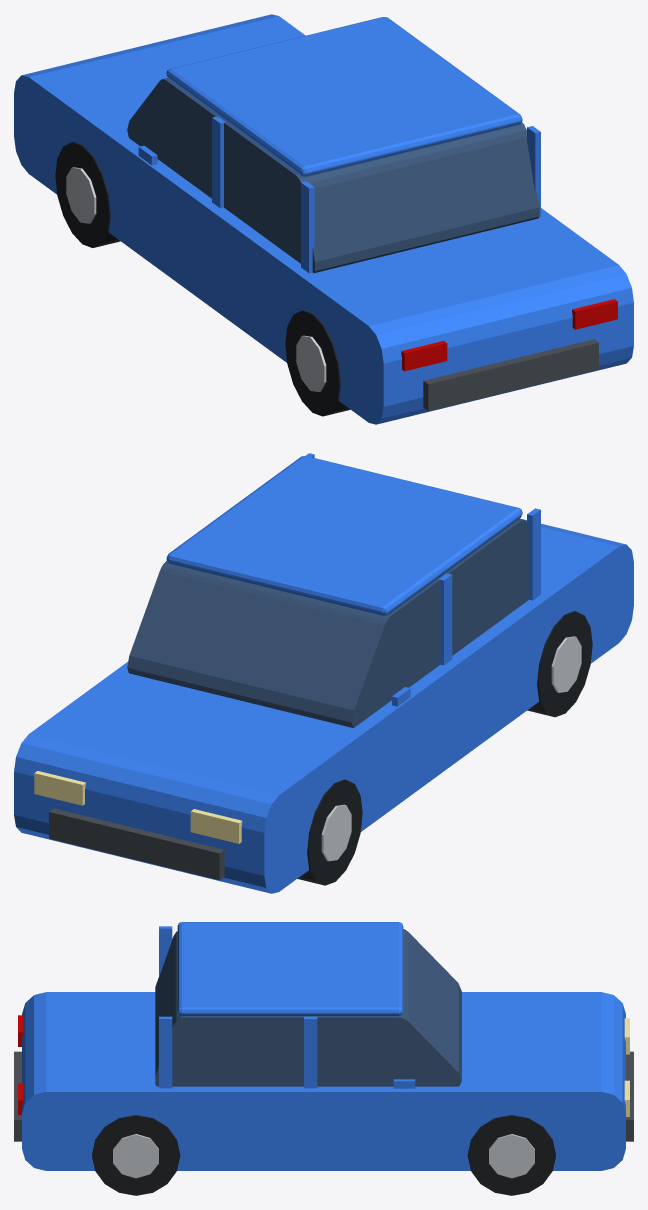
The model's file is st_car_blue.glb.
3 renders of one model, top to bottom at view 1: azimuth 30°, elevation 25°; view 2: azimuth 150°, elevation 25°; view 3: azimuth 270°, elevation 25°, orthographic. The views are drawn at different scales.
Parts seen in each view (by area): view 1: prism, prism.001, Cube, Cube.012, Cylinder, Cylinder.002, Cylinder.003, Cylinder.001, Cube.002, Cube.001, Cube.006, Cube.009 (+1 smaller); view 2: prism, prism.001, Cube, Cube.011, Cylinder, Cylinder.002, Cylinder.001, Cylinder.003, Cube.005, Cube.008, Cube.001, Cube.002; view 3: prism, prism.001, Cube, Cylinder.004, Cylinder.006, Cylinder.005, Cylinder.007, Cube.003, Cube.004, Cube.012, Cube.011, Cube.002.
Boxes of the visible parts, x1=… form: prism: x1=14, y1=14, x2=633, y2=424; prism.001: x1=127, y1=78, x2=539, y2=272; Cube: x1=166, y1=17, x2=522, y2=176; Cube.012: x1=423, y1=339, x2=598, y2=410; Cylinder: x1=285, y1=310, x2=350, y2=416; Cylinder.002: x1=55, y1=142, x2=120, y2=247; Cylinder.003: x1=66, y1=167, x2=96, y2=223; Cylinder.001: x1=296, y1=335, x2=326, y2=391; Cube.002: x1=301, y1=181, x2=314, y2=273; Cube.001: x1=212, y1=116, x2=225, y2=208; Cube.006: x1=401, y1=341, x2=447, y2=371; Cube.009: x1=572, y1=299, x2=617, y2=329; prism: x1=14, y1=518, x2=633, y2=893; prism.001: x1=127, y1=519, x2=529, y2=727; Cube: x1=166, y1=456, x2=522, y2=615; Cube.011: x1=49, y1=808, x2=224, y2=880; Cylinder: x1=527, y1=611, x2=592, y2=717; Cylinder.002: x1=297, y1=779, x2=362, y2=885; Cylinder.001: x1=551, y1=636, x2=581, y2=692; Cylinder.003: x1=321, y1=804, x2=351, y2=861; Cube.005: x1=190, y1=809, x2=242, y2=843; Cube.008: x1=34, y1=771, x2=85, y2=805; Cube.001: x1=439, y1=573, x2=452, y2=665; Cube.002: x1=527, y1=508, x2=540, y2=600; prism: x1=22, y1=992, x2=625, y2=1170; prism.001: x1=155, y1=929, x2=461, y2=1086; Cube: x1=177, y1=922, x2=403, y2=1015; Cylinder.004: x1=92, y1=1115, x2=180, y2=1195; Cylinder.006: x1=467, y1=1115, x2=555, y2=1195; Cylinder.005: x1=113, y1=1134, x2=158, y2=1178; Cylinder.007: x1=489, y1=1134, x2=534, y2=1178; Cube.003: x1=304, y1=1016, x2=317, y2=1088; Cube.004: x1=159, y1=1016, x2=172, y2=1088; Cube.012: x1=14, y1=1051, x2=21, y2=1141; Cube.011: x1=626, y1=1051, x2=633, y2=1141; Cube.002: x1=159, y1=926, x2=172, y2=976.
Bounding box in the file's own units: 182 × 149 × 462.
